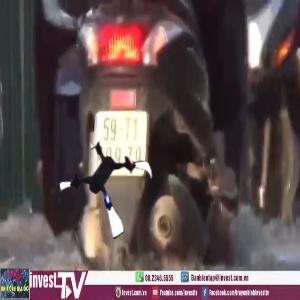drone: (56, 137, 160, 241)
